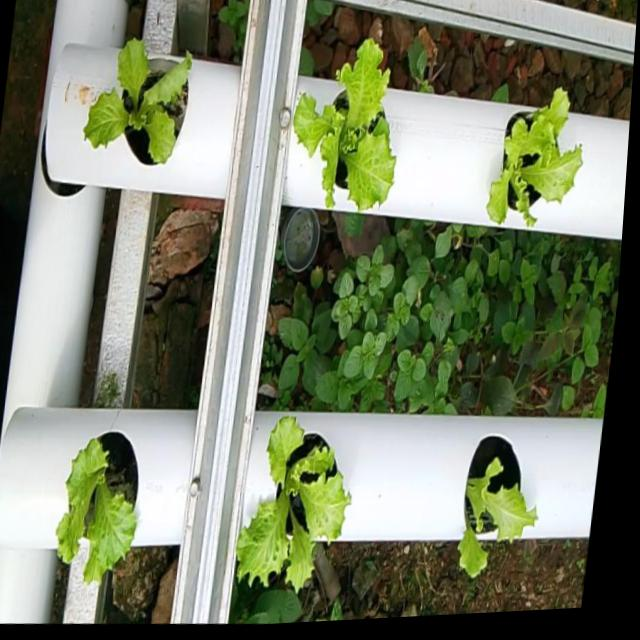Baby: (233, 419, 347, 598), (288, 43, 391, 215), (79, 43, 188, 172), (482, 89, 577, 228), (53, 436, 135, 588), (455, 435, 533, 576)
